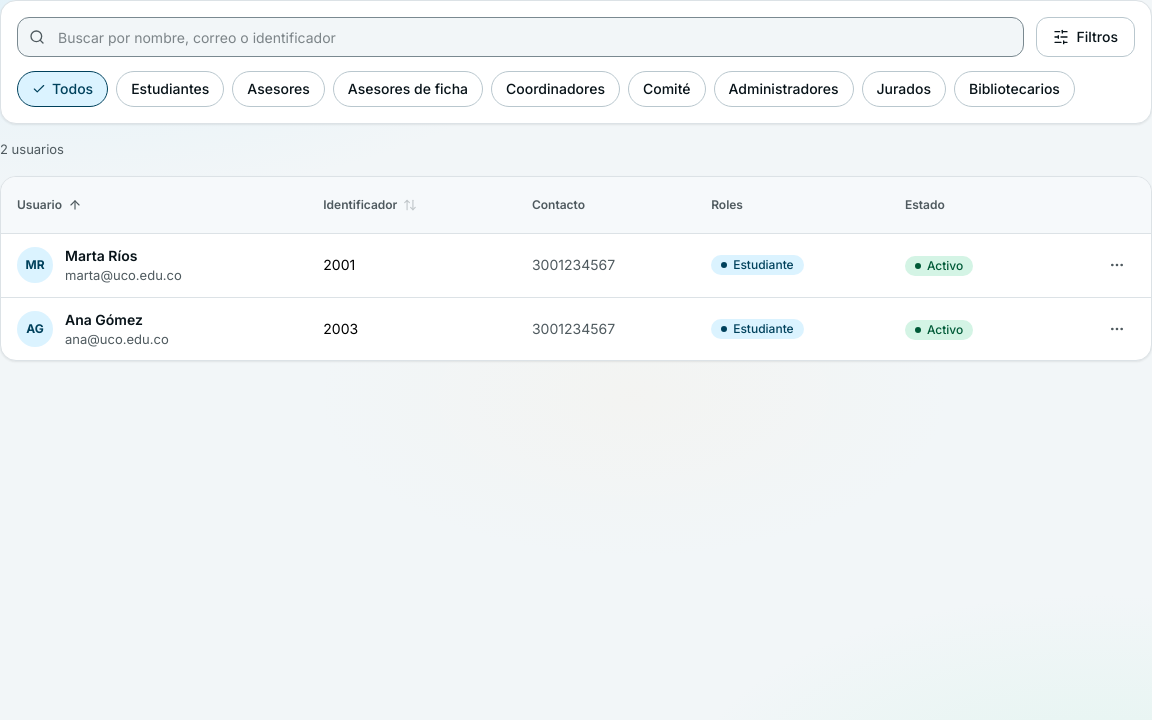
Test: ConsultarUsuarios › dar de baja › "Dar de baja…" del menú de una fila abre el diálogo de esa fila con el foco en "Cancelar", y Esc lo cierra devolviendo el foco a su ⋯
The image size is (1152, 720).
Step 1. Click the button named "Acciones de Ana Gómez" → click(1117, 329), box [1099,311,1135,347]
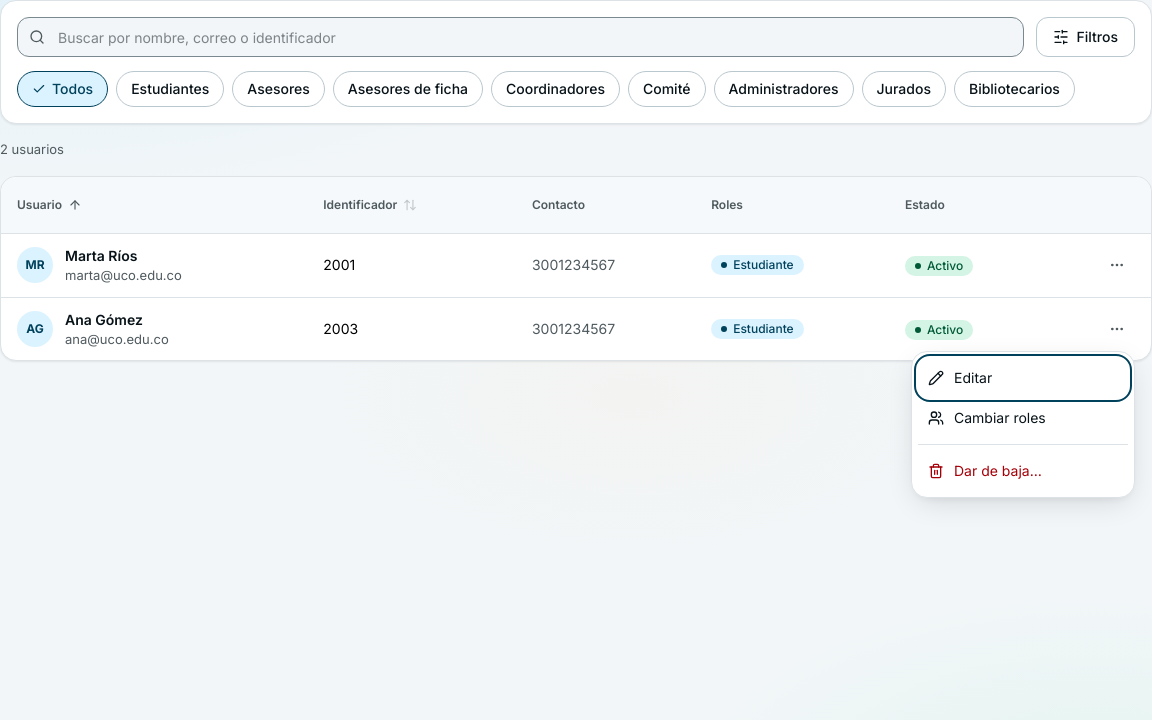
Step 2. Click the menu item "Dar de baja…" → click(1023, 471), box [918,451,1128,491]
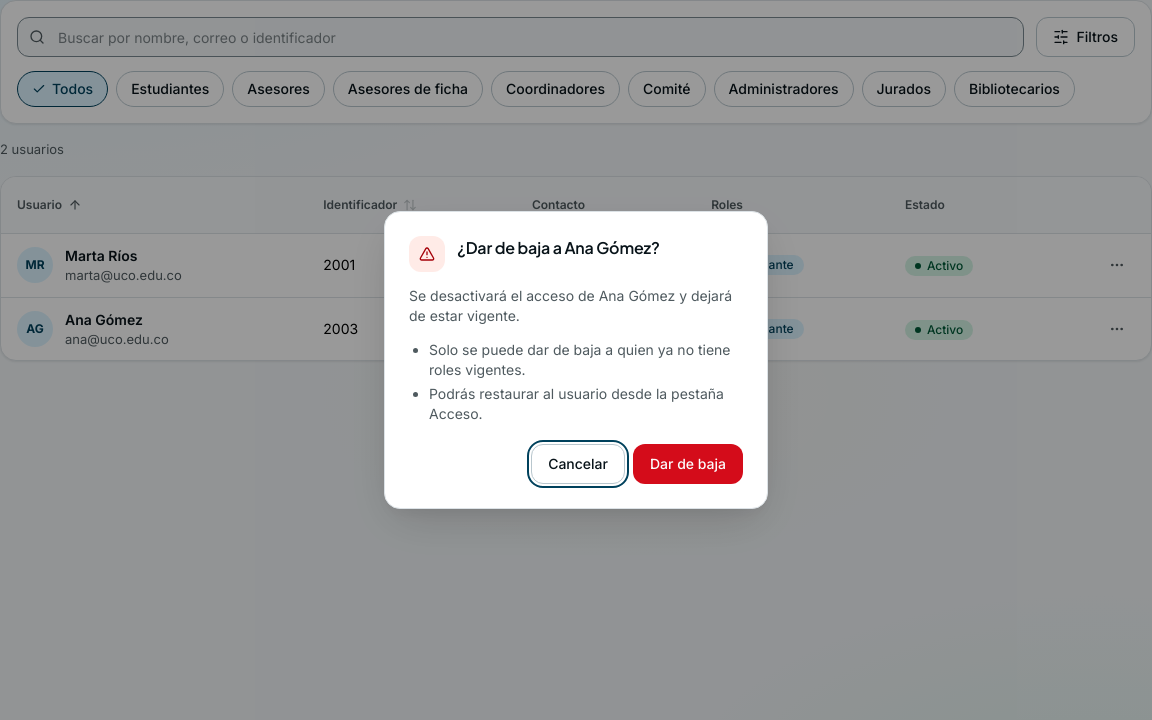
Step 3. Press Escape
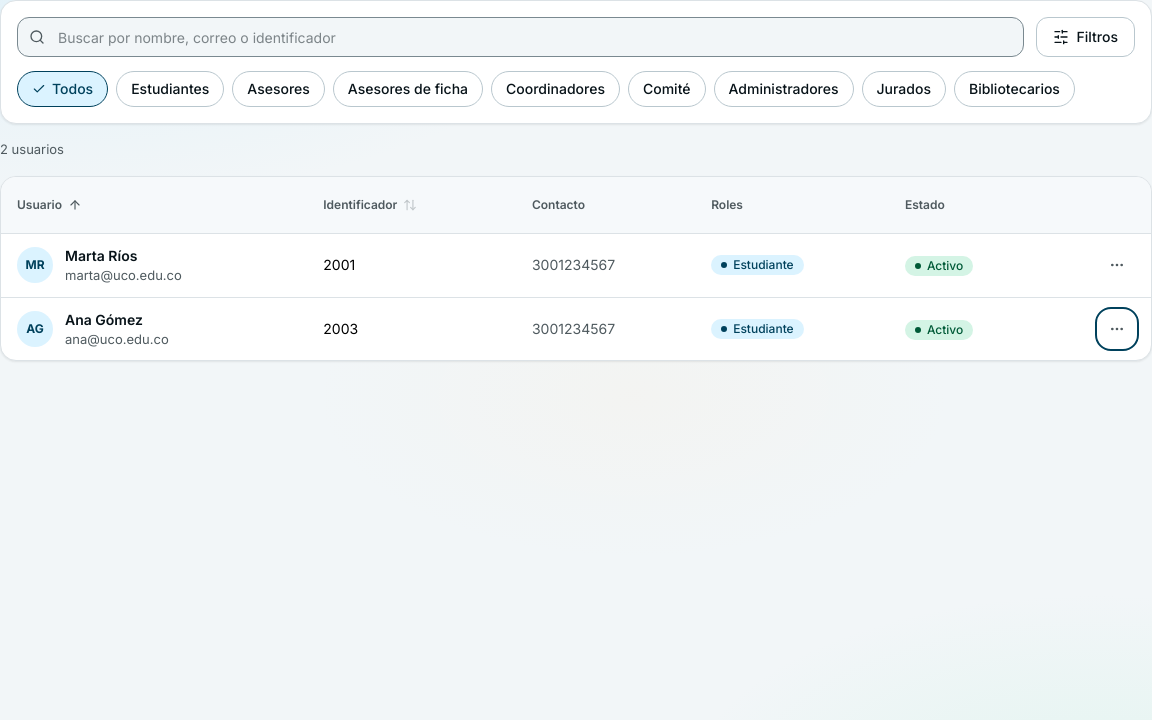
Result: the dialog is gone
